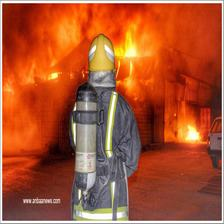fire: (4, 15, 82, 91), (110, 15, 171, 88), (165, 106, 209, 144)
